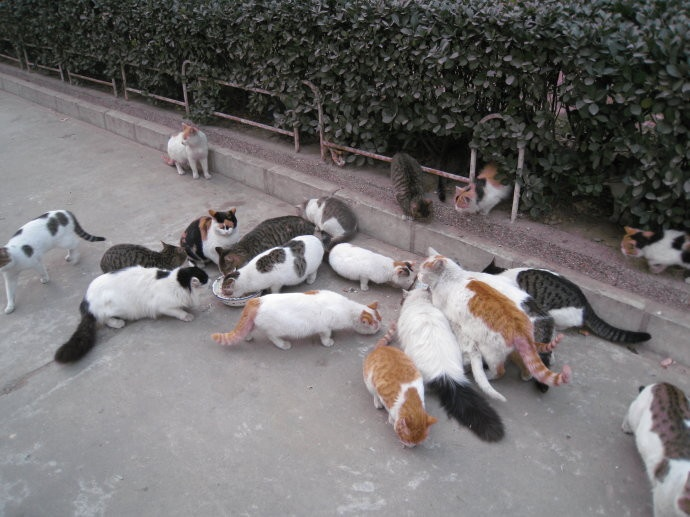cat: (418, 246, 571, 389), (395, 288, 503, 443), (53, 260, 209, 364), (482, 256, 652, 347), (1, 208, 106, 314), (211, 291, 383, 352), (619, 381, 690, 517), (362, 321, 437, 449), (221, 234, 324, 296), (215, 216, 318, 277), (328, 242, 416, 292), (621, 225, 690, 283), (180, 206, 239, 266), (453, 162, 512, 217), (390, 151, 434, 222), (297, 195, 359, 245), (163, 123, 211, 179), (99, 241, 185, 271)
